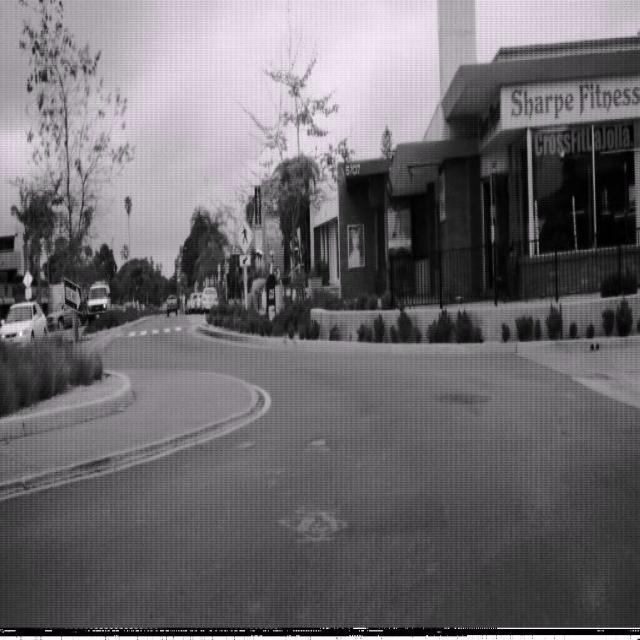pedestrianCrossing: (234, 217, 254, 255)
